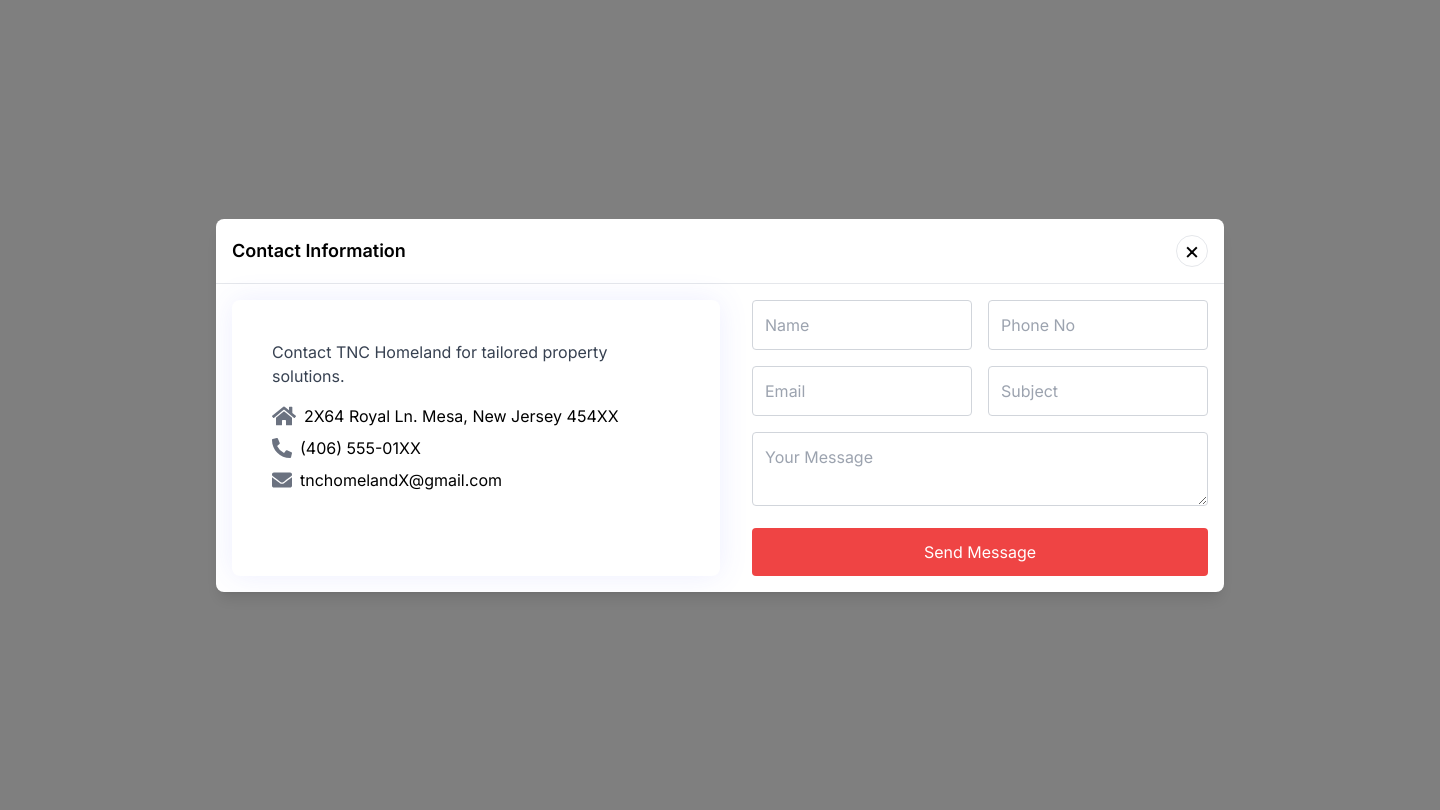
Test case: Modal Component › displays form validation errors
Step 1. Click the button "Send Message" → (980, 552), box [752,528,1208,576]
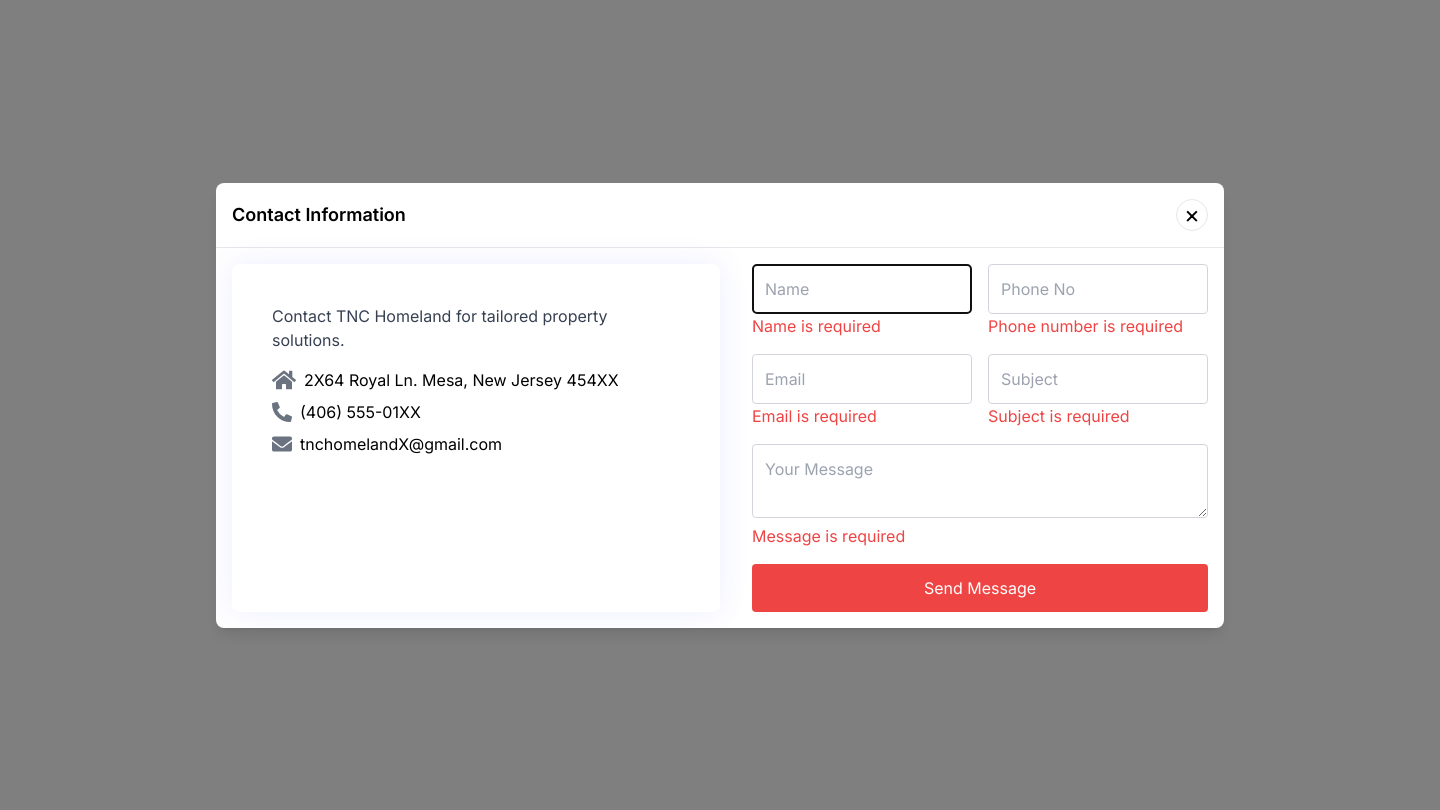
Expected: the text "Name is required" is shown, [752,316,881,336]
Expected: the text "Phone number is required" is shown, [988,316,1183,336]
Expected: the text "Email is required" is shown, [752,406,877,426]
